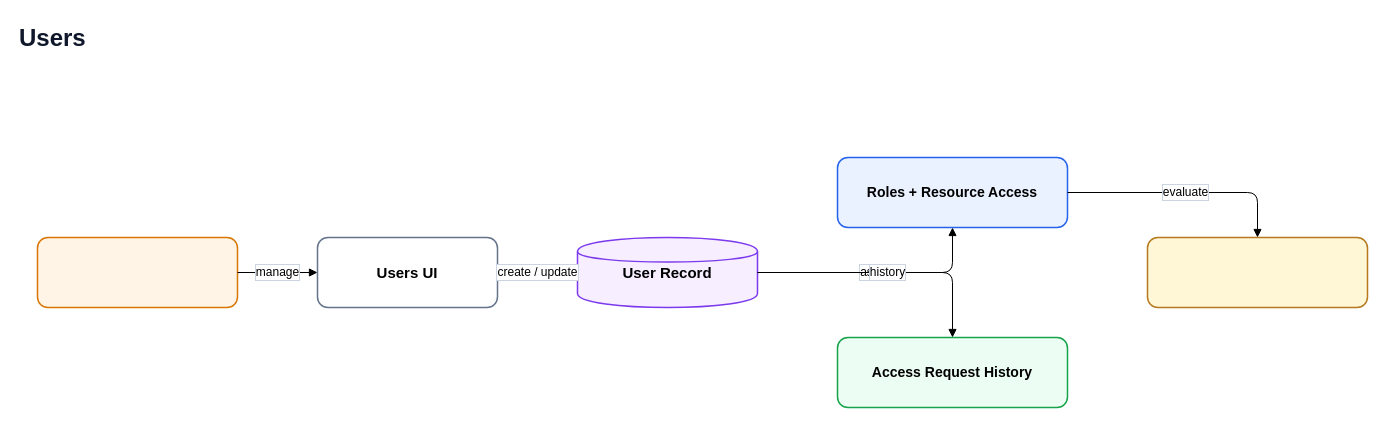
Image size: 1385x425. Some labels were removed from this diagram. The shapes that lost their labels are listed below. From the top down, each one's box as (x1, y1, x2, y2) in pixels, then its label:
(36, 236, 238, 308): User Administrator
(1146, 236, 1368, 308): Effective Authorization
